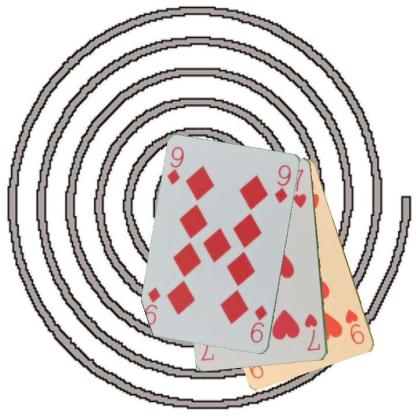7h: (302, 312, 322, 352)
9d: (164, 144, 186, 186), (248, 303, 269, 344)
9h: (343, 307, 366, 346)
